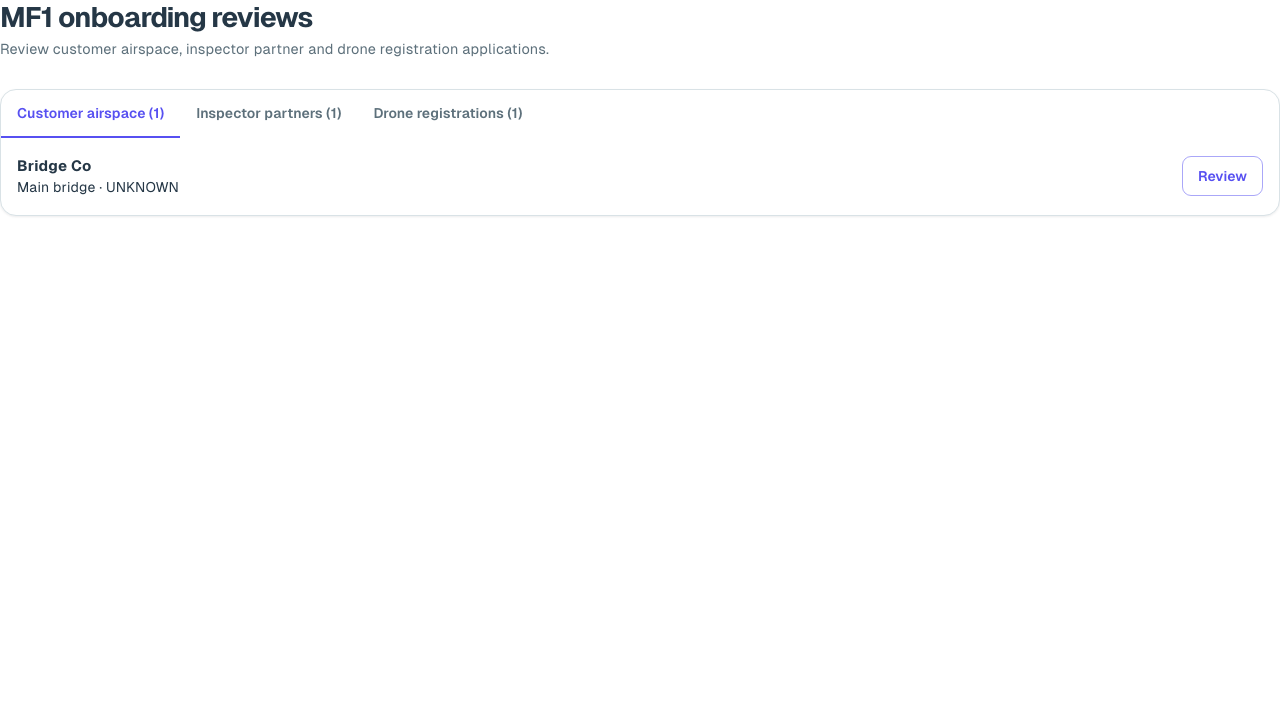
Scenario: MF1 review queues › requires an administrator note before approving an unknown-airspace prospect
Click the button "Review". click: (1222, 176)
box: [1182, 156, 1263, 196]
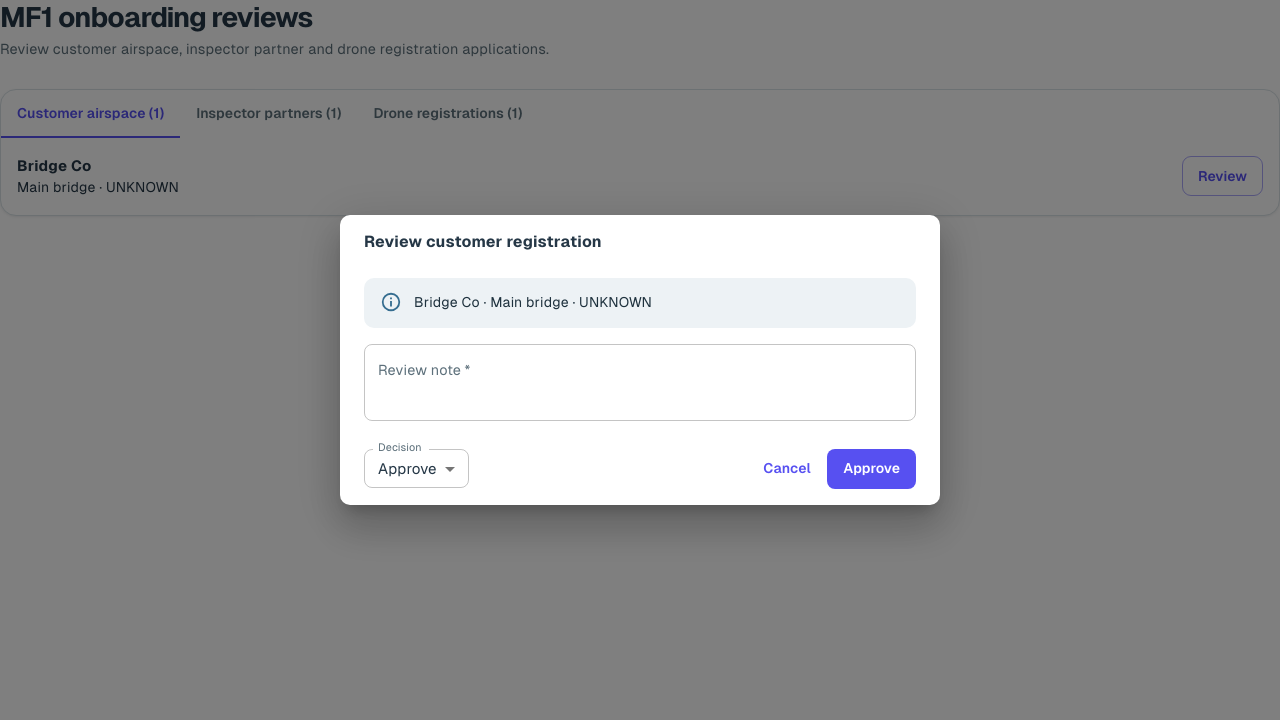
Click the button "Approve". click: (872, 468)
box: [827, 448, 916, 488]
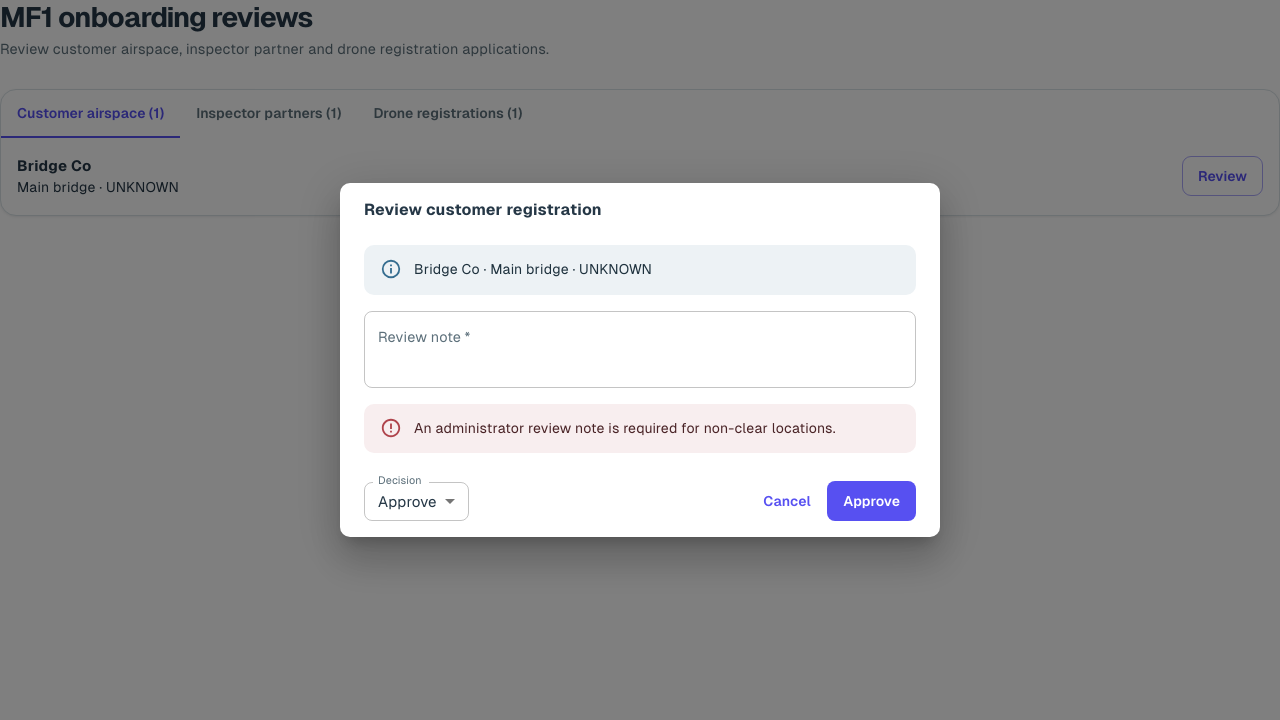
Check: the text "An administrator review note is required for non-clear locations." is shown, box [414, 420, 836, 436]
